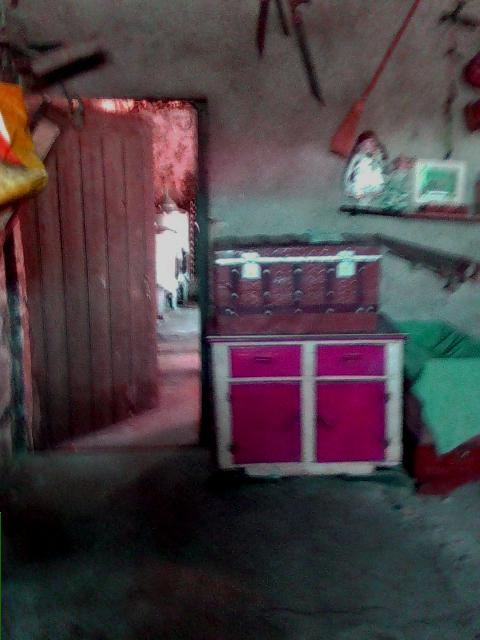semi_door: (6, 90, 210, 453)
